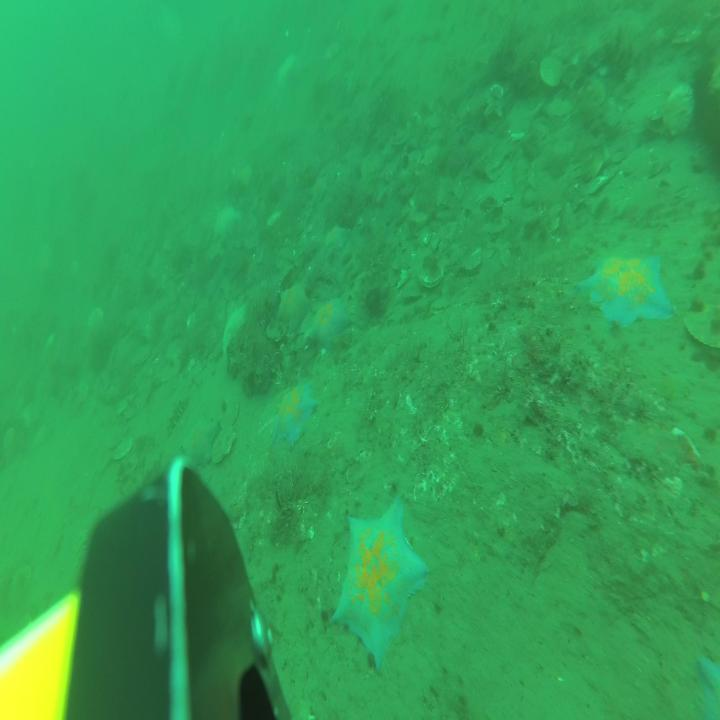echinus: (692, 59, 718, 114), (698, 117, 720, 174)
holothurian: (166, 393, 188, 436)
scallop: (664, 82, 693, 138), (212, 424, 235, 464), (541, 55, 565, 87), (417, 260, 443, 288), (220, 396, 239, 431), (111, 436, 133, 459), (160, 360, 181, 384), (126, 396, 146, 419), (88, 308, 104, 332), (133, 344, 151, 365)
starfish: (332, 498, 427, 676), (578, 256, 677, 330), (270, 380, 316, 450), (306, 297, 349, 353), (181, 414, 219, 470), (696, 653, 720, 720), (278, 283, 308, 330), (214, 203, 240, 244), (324, 223, 350, 254)
